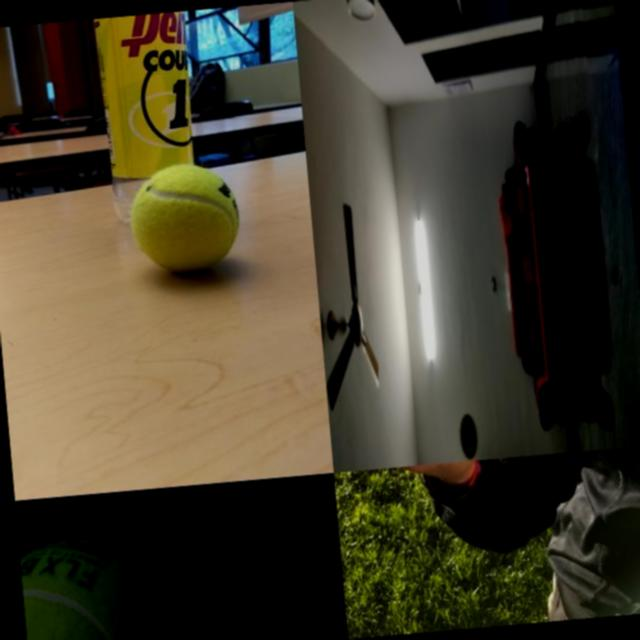tennis-ball: (18, 528, 171, 640), (125, 158, 243, 278), (458, 411, 480, 460)
